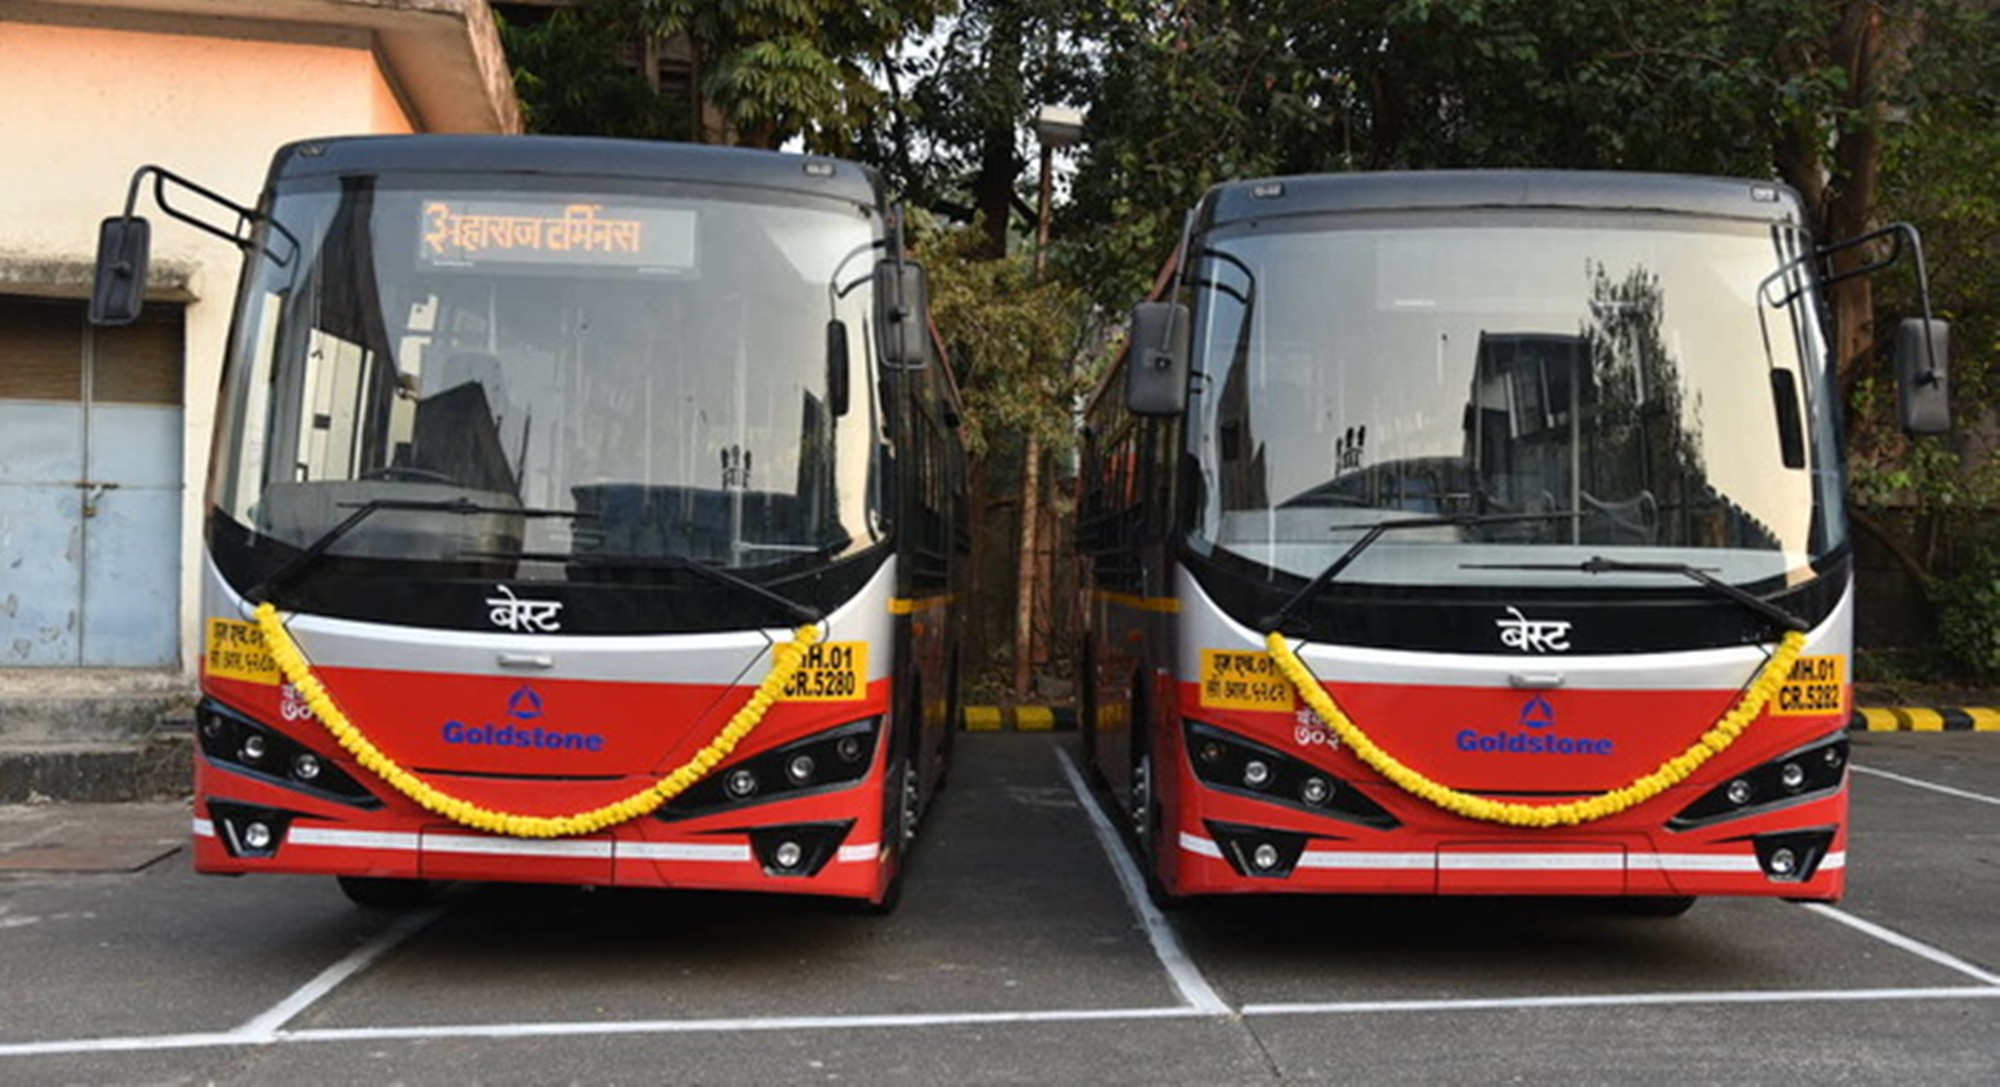bus: (197, 127, 969, 922), (1067, 159, 1855, 909)
